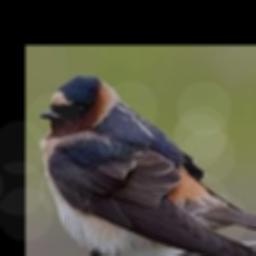Swallow: (39, 75, 256, 256)
